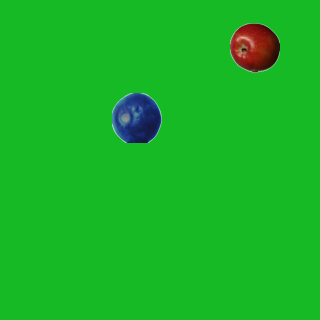Apple Braeburn: (229, 22, 279, 72)
Huckleberry: (111, 92, 161, 142)
